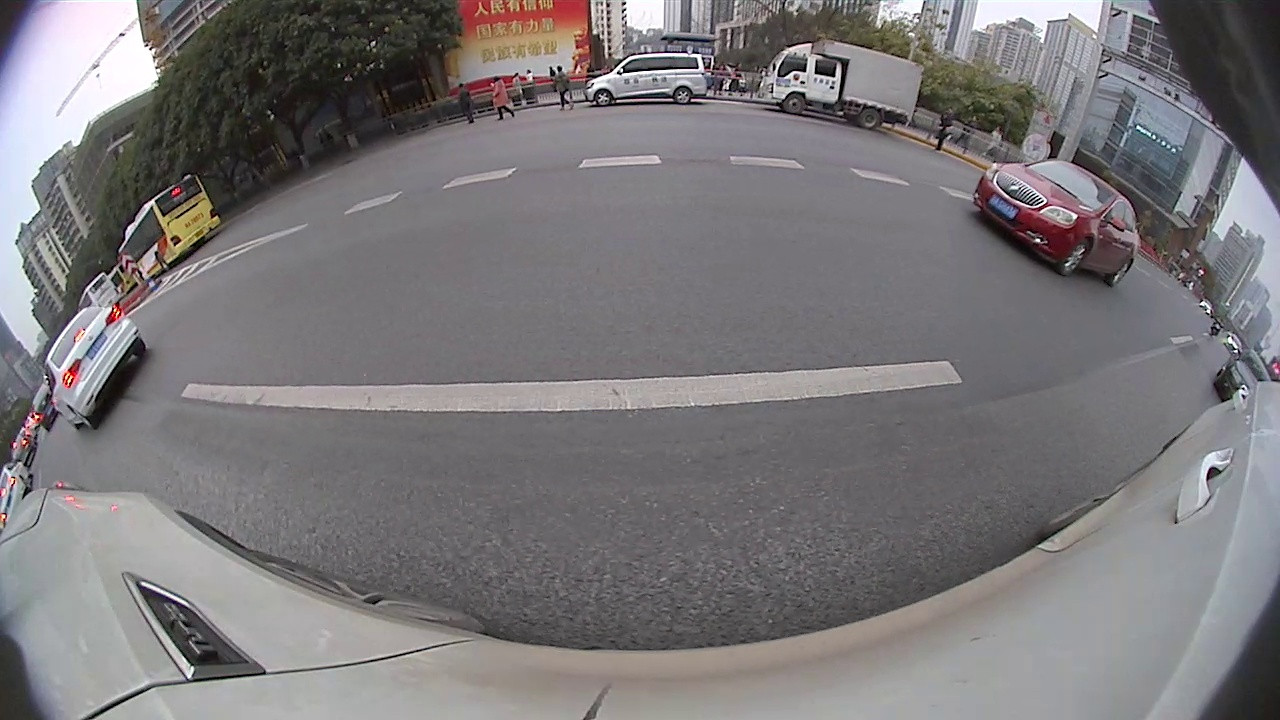bus: (114, 175, 221, 283)
car: (973, 157, 1141, 289), (42, 300, 147, 436), (583, 53, 707, 109), (1214, 349, 1272, 400), (0, 460, 36, 514), (27, 384, 62, 431)
front: (1060, 236, 1090, 280), (784, 93, 805, 115), (593, 89, 612, 106)
person: (457, 81, 470, 130), (493, 75, 505, 121), (556, 65, 567, 111), (940, 112, 949, 153)
rear: (1108, 257, 1141, 287), (858, 108, 879, 129), (673, 87, 691, 105)
truck: (760, 38, 926, 129)
